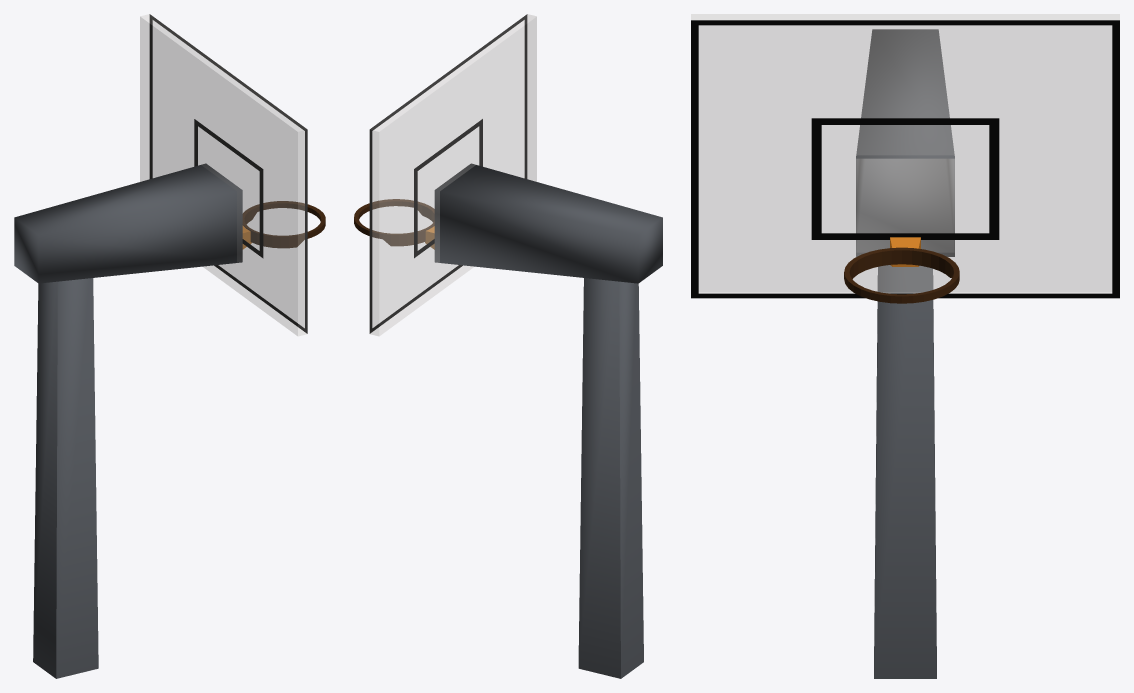
The model's file is uploads_files_4251021_hoop.fbx.
3 renders of one model, left to right at view 1: azimuth 30°, elevation 25°; view 2: azimuth 150°, elevation 25°; view 3: azimuth 270°, elevation 25°, orthographic. The views are drawn at different scales.
Visible parts, largest first — view 1: Hoop.003; view 2: Hoop.003; view 3: Hoop.003.
Part boxes in pixels (box(x1,y1,x2,y2)): Hoop.003: box(14, 14, 325, 678); Hoop.003: box(354, 14, 662, 678); Hoop.003: box(691, 14, 1119, 678).
Size of the model in its own units: 708 by 1281 by 662.
